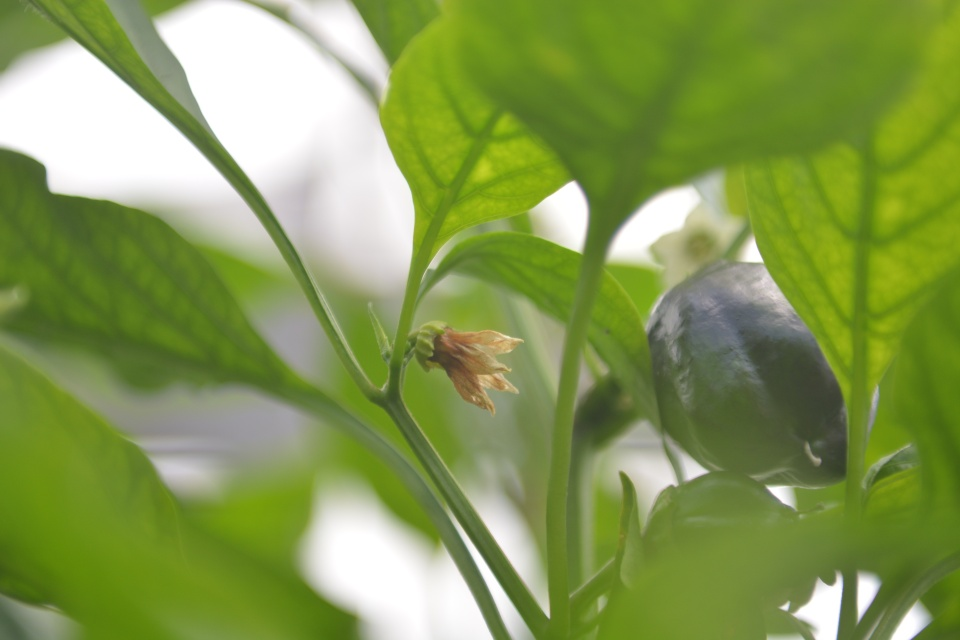flower: (648, 196, 746, 287)
fruit: (645, 253, 855, 491)
